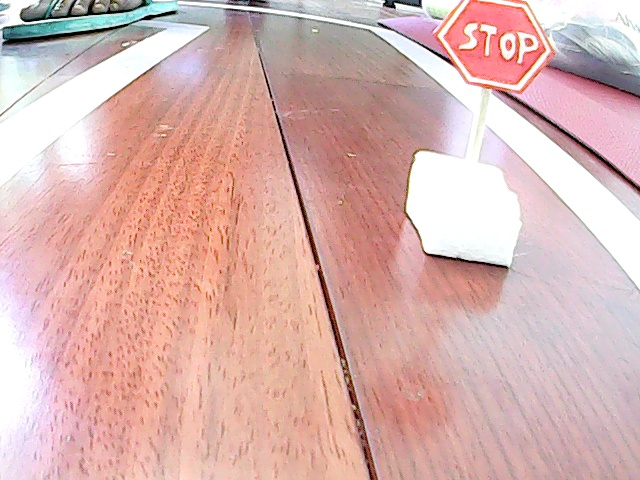stop: (430, 1, 534, 272)
